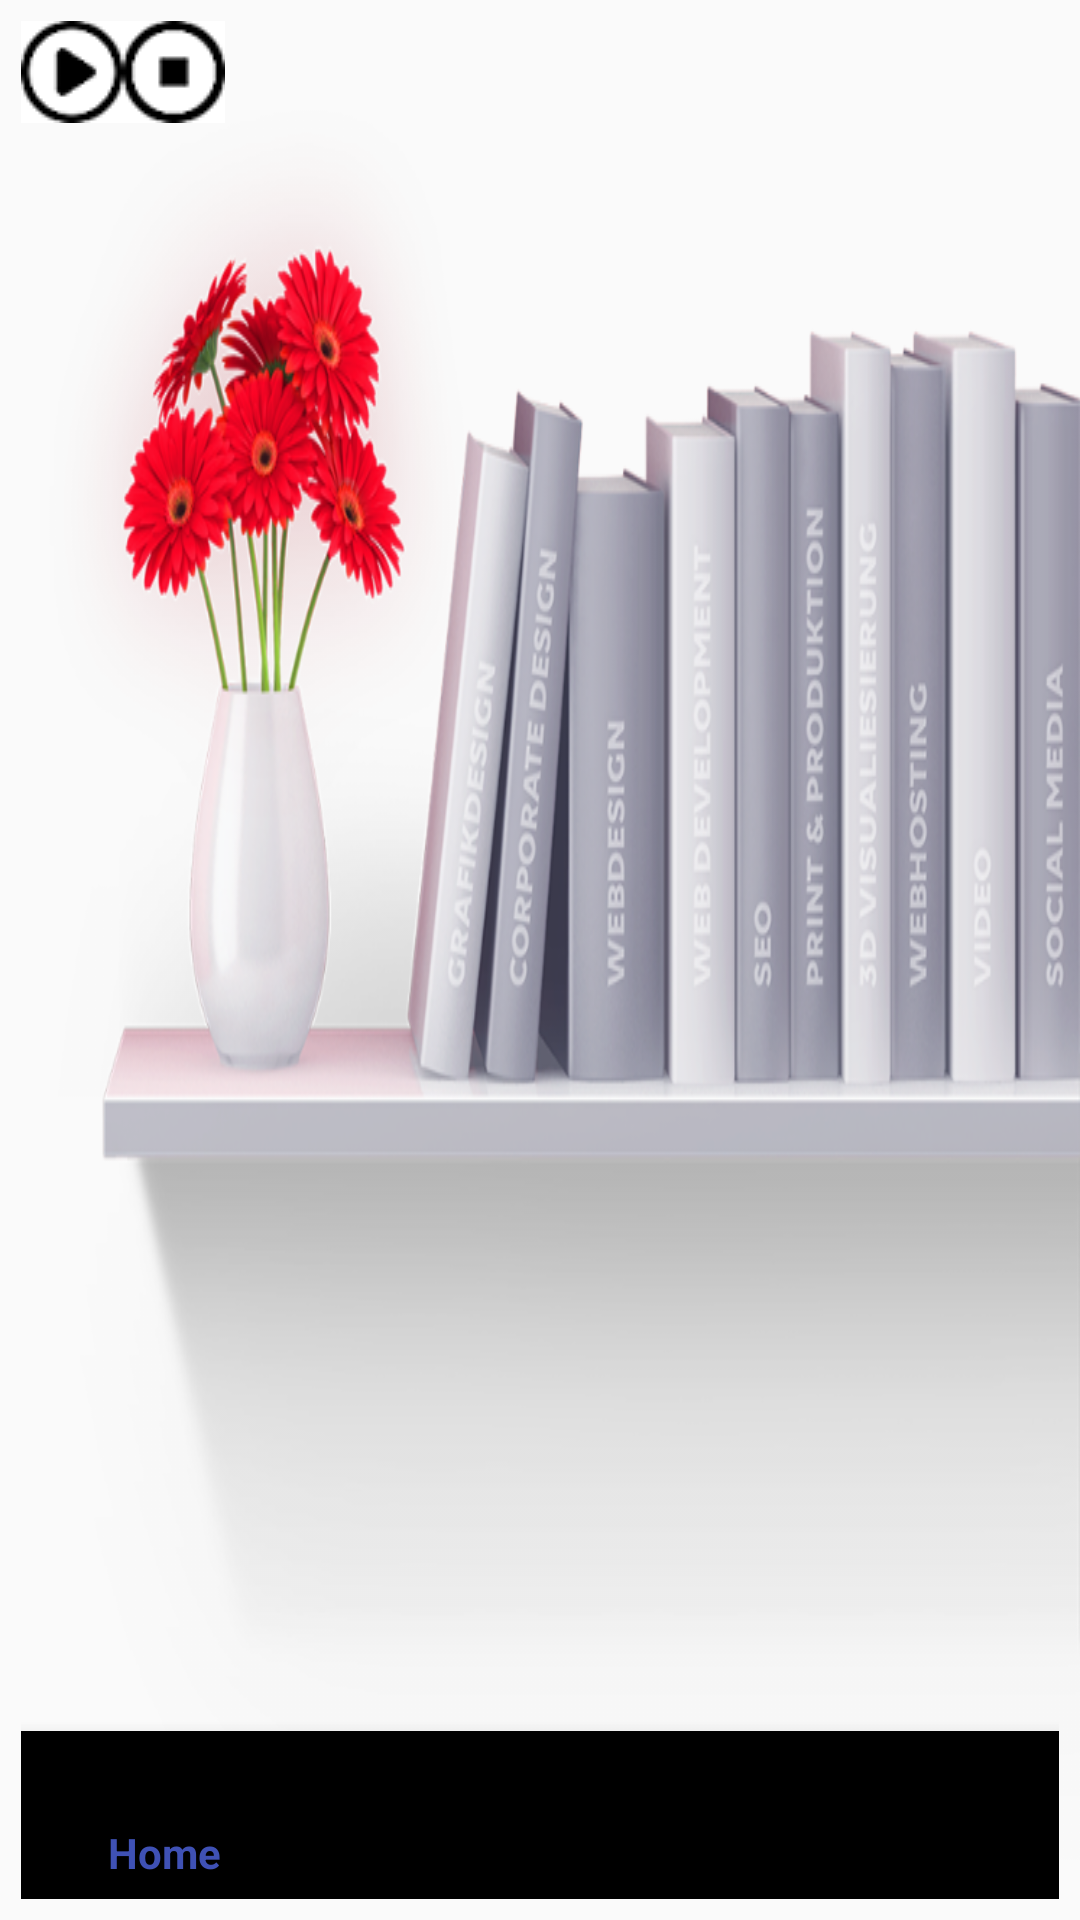

Icons on this 1080×1920 Android screen, each with its box as (x1, y1, x2, y2):
play: (21, 21, 123, 123)
stop: (123, 21, 225, 123)
